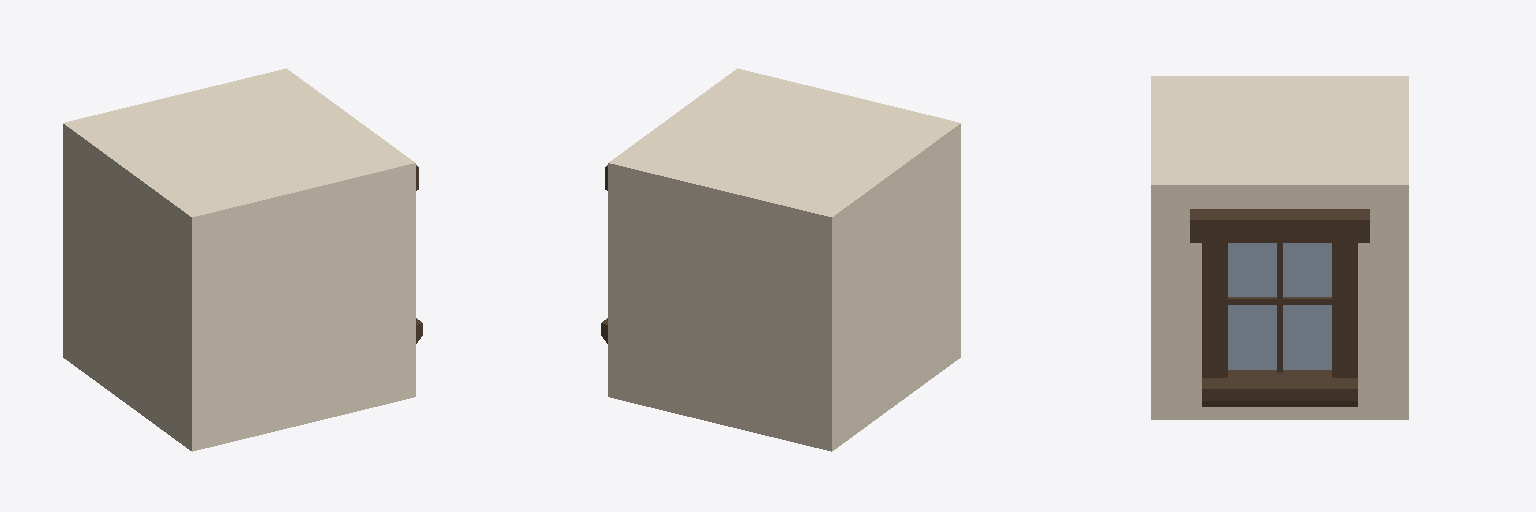
File: Stucco_Window_Single_Narrow.obj
The picture shows the model from 3 angles: view 1: azimuth 30°, elevation 25°; view 2: azimuth 150°, elevation 25°; view 3: azimuth 270°, elevation 25°; orthographic projection.
Parts seen in each view (by area): view 1: object2; view 2: object2; view 3: object2, object3, object1.
Boxes of the visible parts, <box> form: object2: <box>63,68,415,451</box>; object2: <box>608,68,960,451</box>; object2: <box>1151,76,1408,419</box>; object3: <box>1190,209,1369,406</box>; object1: <box>1228,243,1331,372</box>.
Bounding box in the file's own units: 1.15 × 1 × 1.